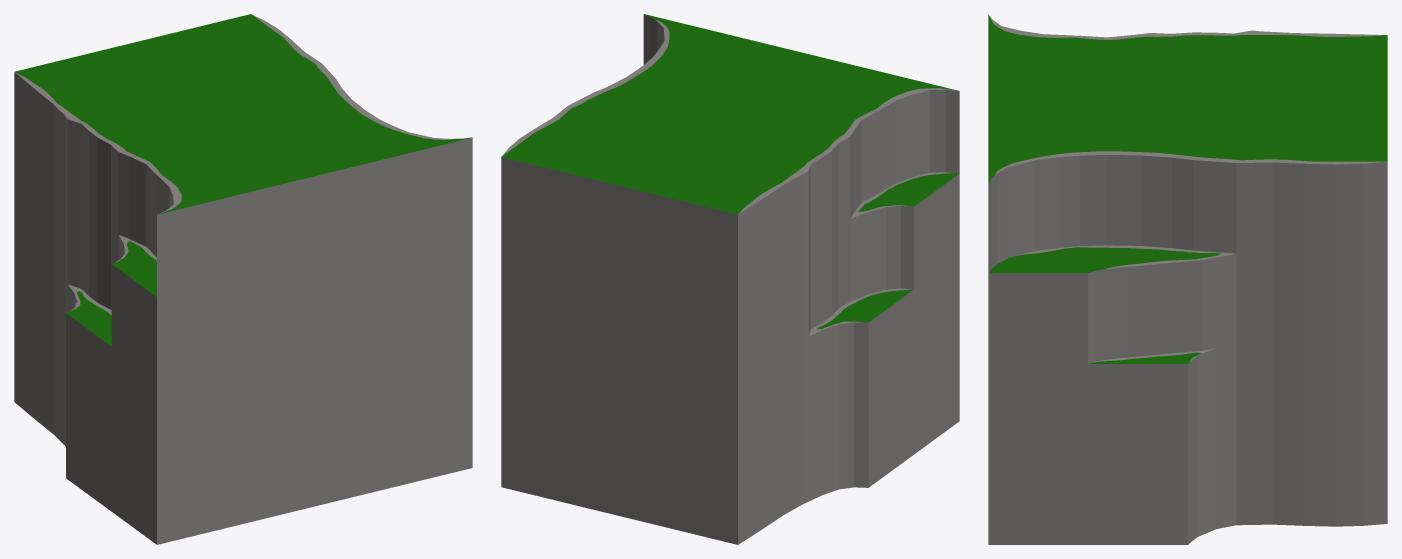
File: StairToMountainToStair.fbx
3 views of the same model, side by side, from view 1: azimuth 30°, elevation 25°; view 2: azimuth 150°, elevation 25°; view 3: azimuth 270°, elevation 25° (orthographic). The views are drawn at different scales.
Parts seen in each view (by area): view 1: Plane.022; view 2: Plane.022; view 3: Plane.022.
Part boxes in pixels (<box>): Plane.022: <box>14,14,472,544</box>; Plane.022: <box>501,14,959,544</box>; Plane.022: <box>988,14,1387,544</box>.
Bounding box in the file's own units: 100 × 100 × 100.
